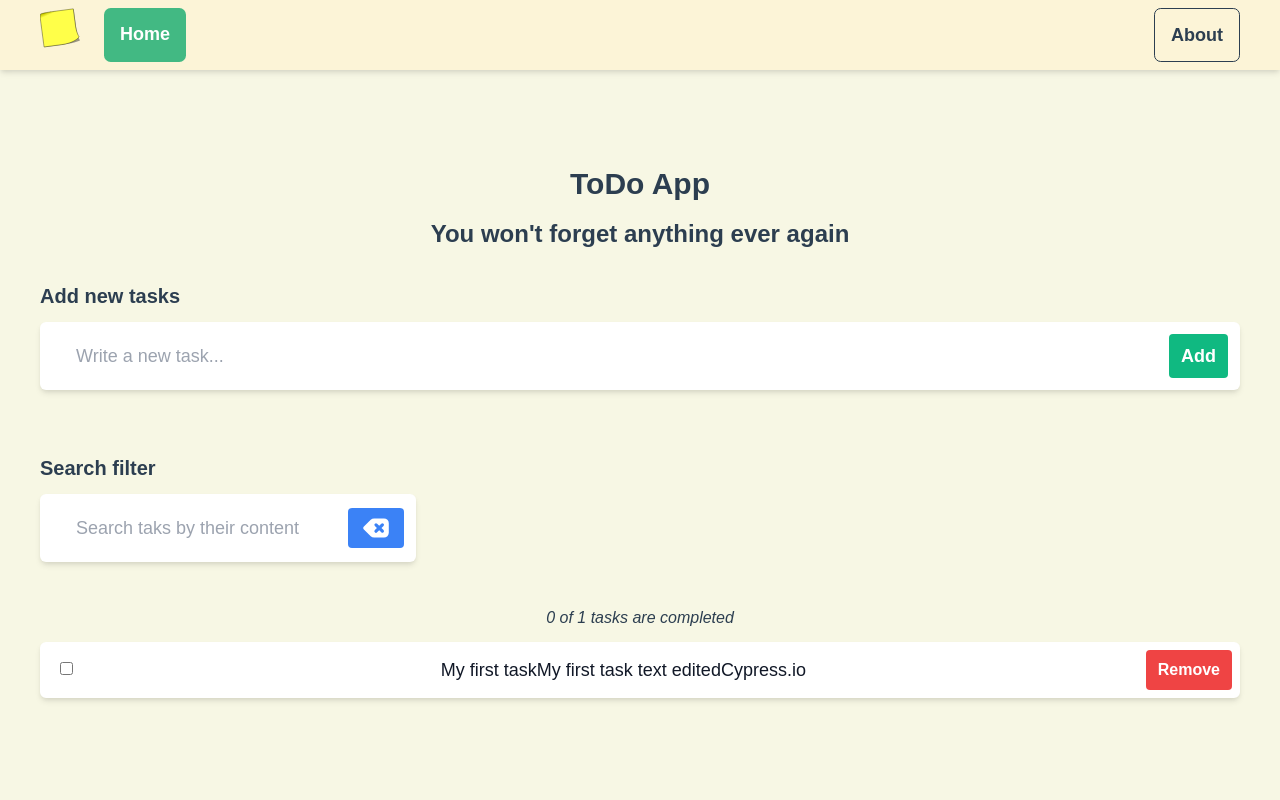
Test case: task list › can edit a task's "completed" status
Check the checkbox: (67, 669) [60,662,73,675]
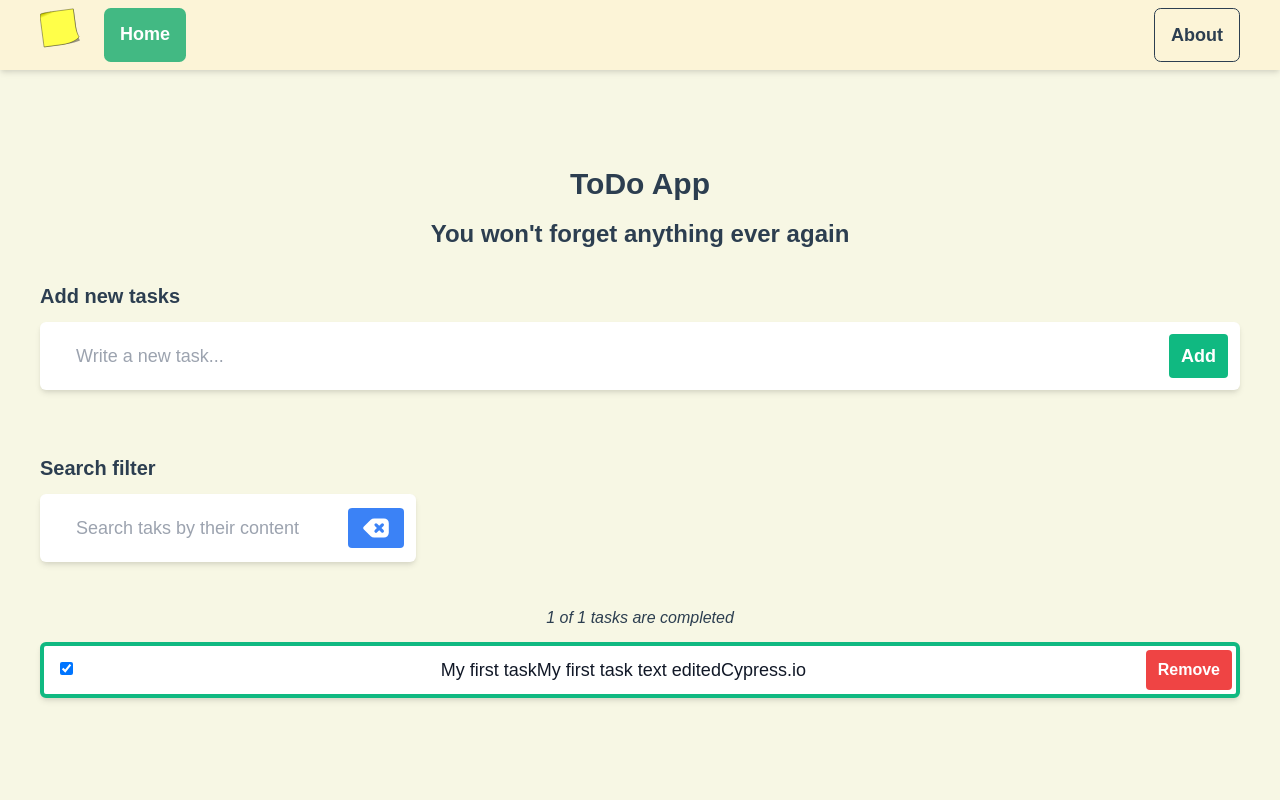
Check: the text "1 of 1 tasks are completed" is shown, box [546,609,734,626]
